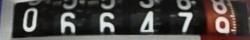digits: (209, 0, 231, 36), (174, 0, 193, 33), (22, 7, 38, 31), (60, 11, 76, 32), (99, 12, 115, 32), (140, 10, 154, 31)
